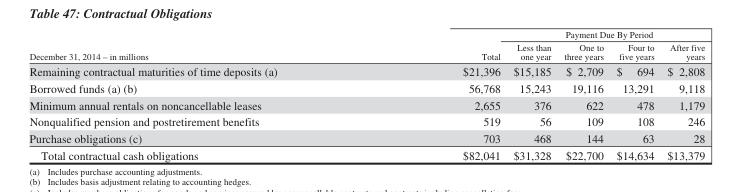table: (28, 28, 704, 161)
table column: (28, 28, 369, 161), (369, 28, 506, 161), (557, 28, 609, 161), (506, 28, 557, 161), (609, 28, 660, 161), (660, 28, 704, 161)
table column header: (28, 28, 704, 62)
table row: (28, 40, 704, 62), (28, 62, 704, 79), (28, 79, 704, 96), (28, 96, 704, 113), (28, 129, 704, 146), (28, 113, 704, 129), (28, 146, 704, 161), (28, 28, 704, 40)
table spanning cell: (28, 28, 369, 62), (369, 28, 506, 62), (506, 28, 704, 40)
